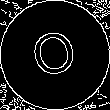O_S: (27, 24, 83, 86)
